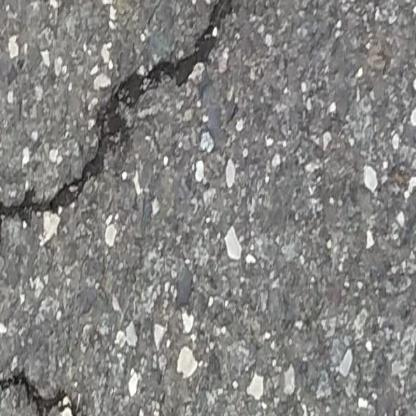Cracks: (0, 0, 253, 279), (0, 366, 125, 416)
